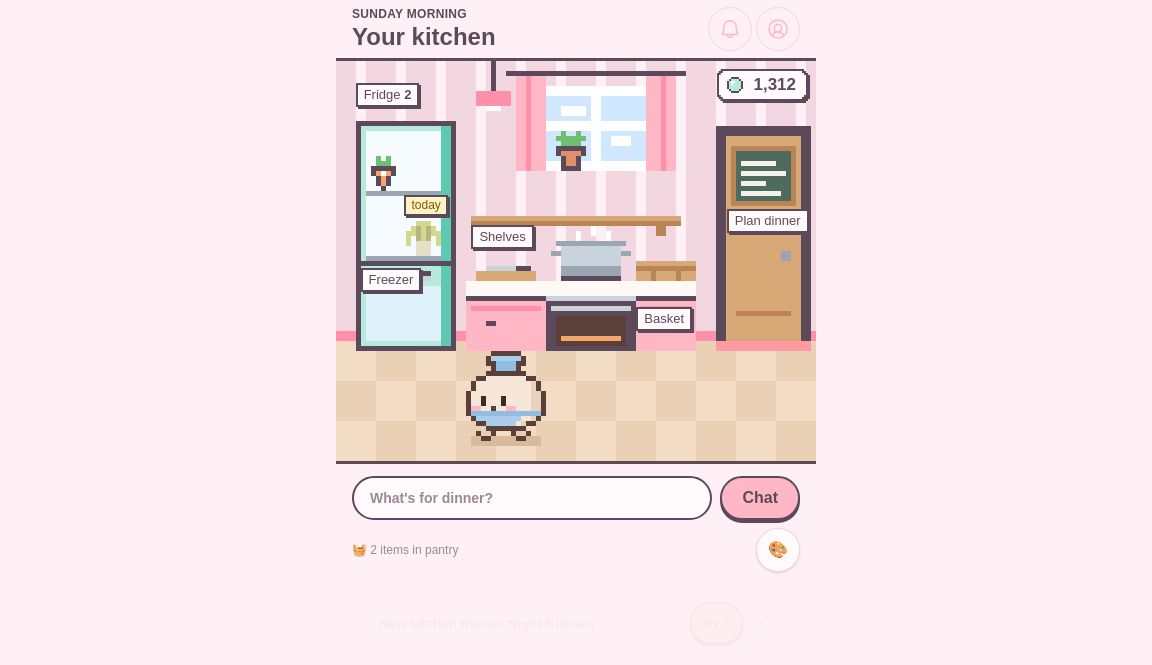
Test case: one award reaction on a use-up award (#807, #843) › is still exactly one under reduced motion
Click the button with aria-label "Fridge, 2 items" at (406,174), box left=356, top=83, right=456, bottom=266
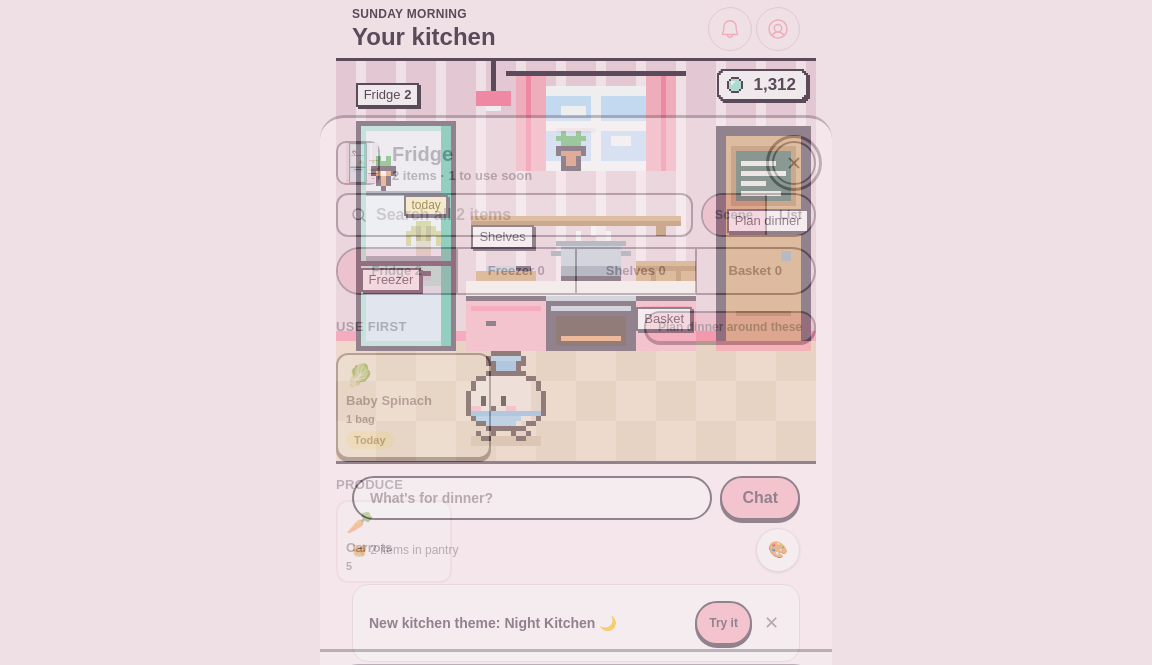
Click the button "List" at (789,215), box left=765, top=195, right=814, bottom=235
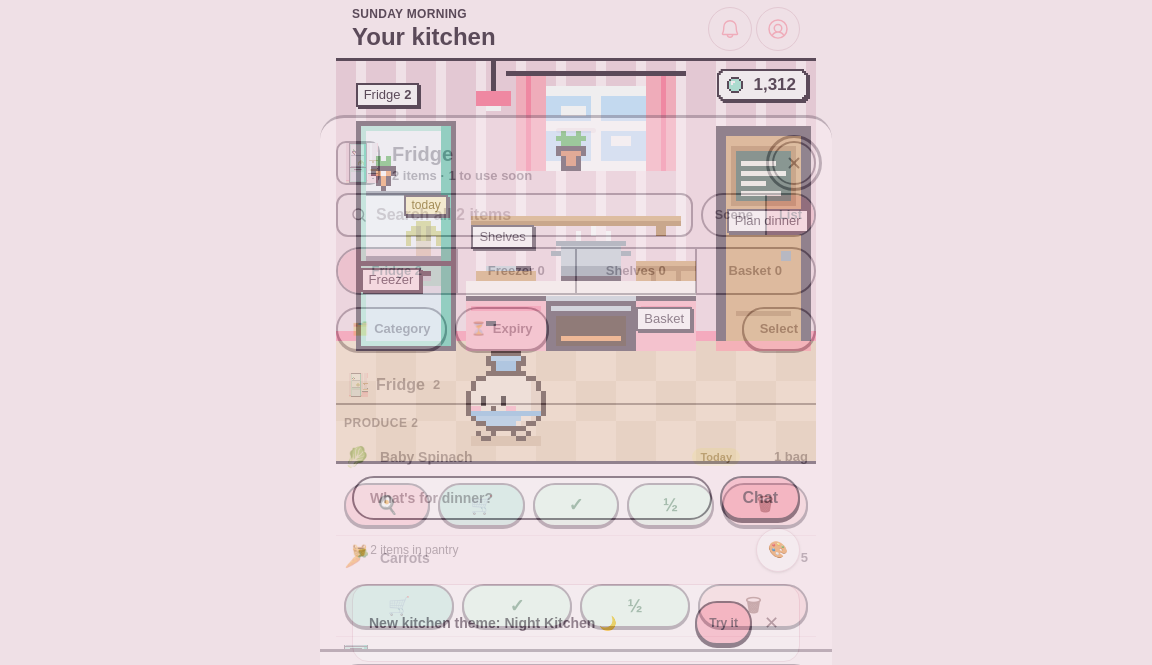
Click the button named "Mark baby spinach as used up" at (576,505), box left=533, top=483, right=619, bottom=527
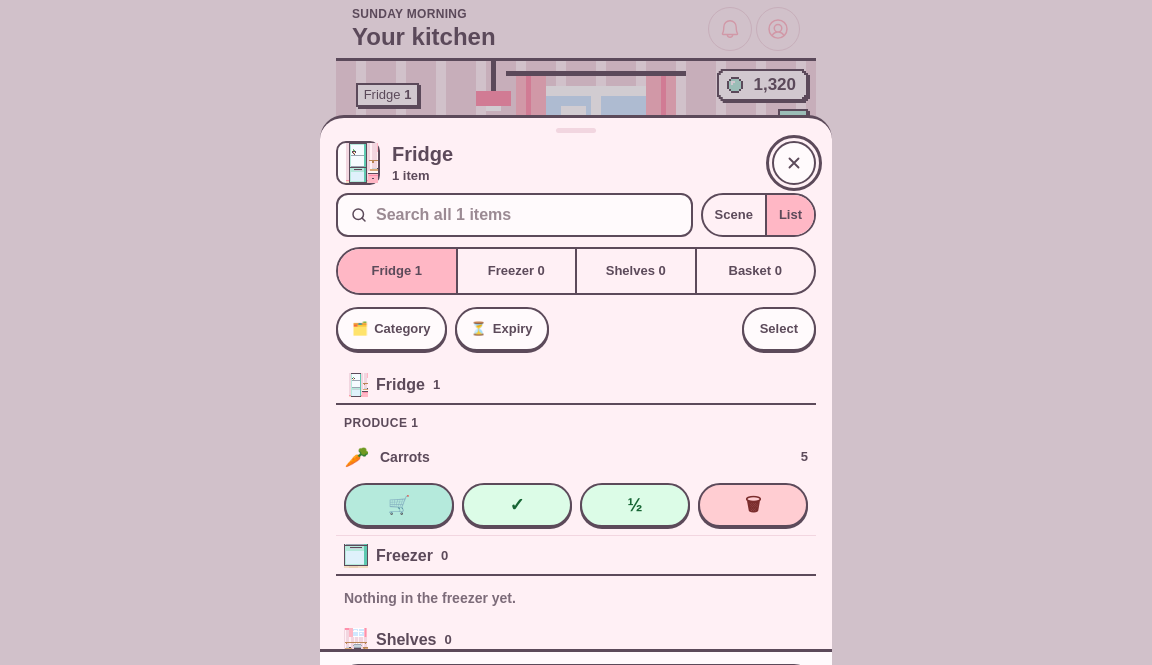
expect the text with test id "bubbles-counter-rise" reads "+8": met, box left=778, top=109, right=808, bottom=131
